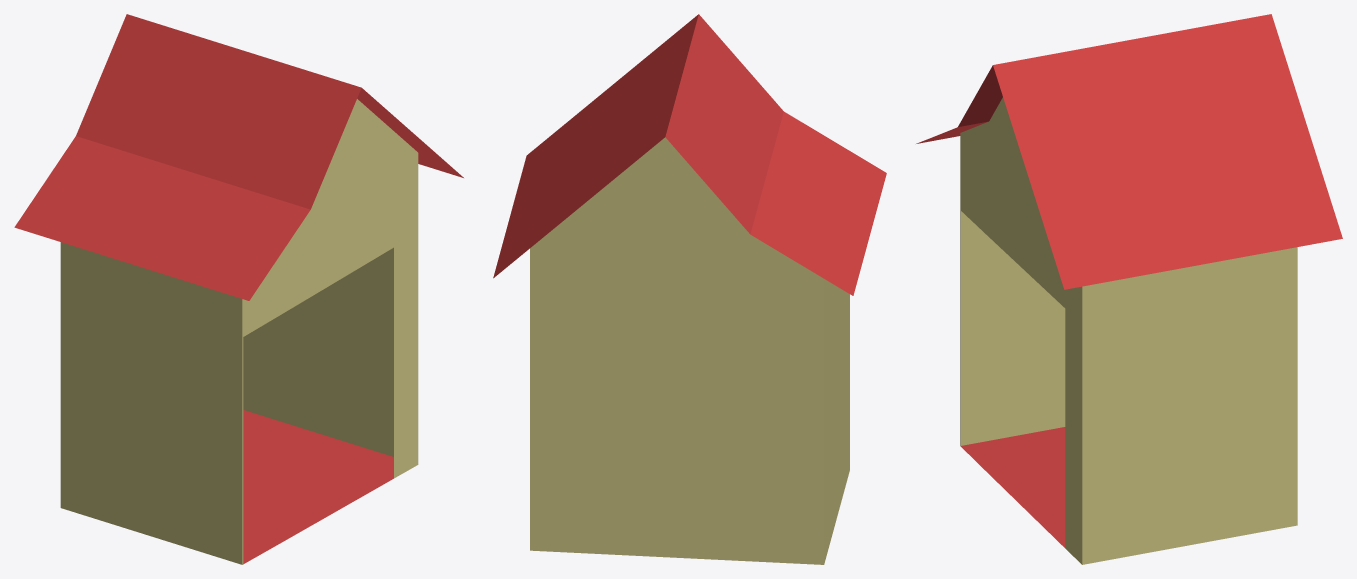
3 views of the same model, side by side, from view 1: azimuth 30°, elevation 25°; view 2: azimuth 150°, elevation 25°; view 3: azimuth 270°, elevation 25° (orthographic). The views are drawn at different scales.
Bounding box in the file's own units: 13.52 × 12.44 × 14.42.
